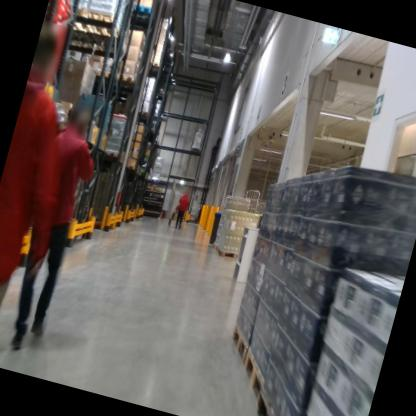pallet: (78, 6, 132, 61), (229, 339, 271, 408), (55, 2, 105, 56), (251, 383, 304, 416), (224, 317, 254, 364), (129, 1, 157, 28), (217, 238, 243, 263), (114, 72, 141, 92), (95, 68, 119, 84), (102, 147, 121, 163), (132, 107, 151, 122), (146, 58, 162, 72), (211, 242, 219, 250), (214, 246, 220, 253)
